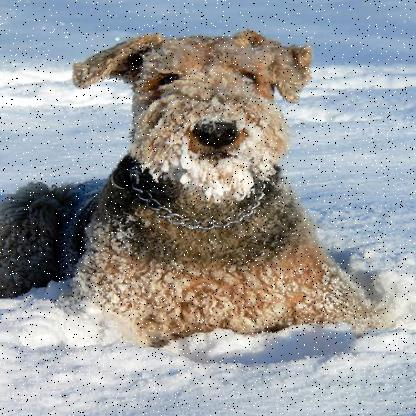dog: (56, 18, 376, 324)
